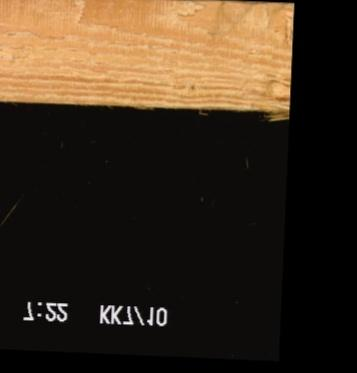small_knot: (185, 80, 201, 94)
